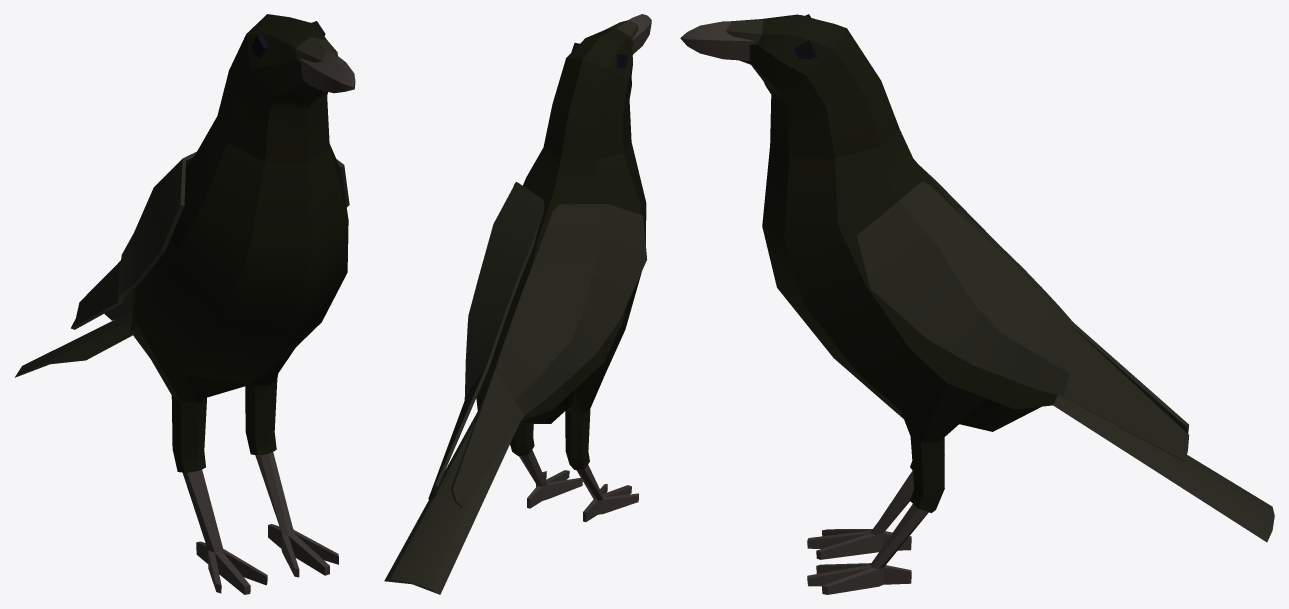
File: crow.glb
3 renders of one model, left to right at view 1: azimuth 30°, elevation 25°; view 2: azimuth 150°, elevation 25°; view 3: azimuth 270°, elevation 25°, orthographic. The views are drawn at different scales.
Visible parts, largest first — view 1: crow; view 2: crow; view 3: crow.
Boxes of the visible parts, x1,y1,x2,y2 form: crow: (15,14,355,594); crow: (384,14,651,594); crow: (680,14,1274,594).
Bounding box in the file's own units: 17.36 × 50.08 × 48.97.
Materials: 2 (1 with a texture image).
